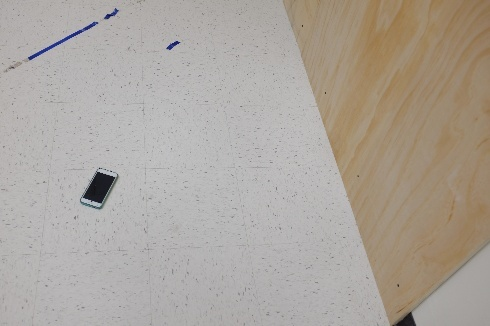phone: (74, 171, 123, 203)
